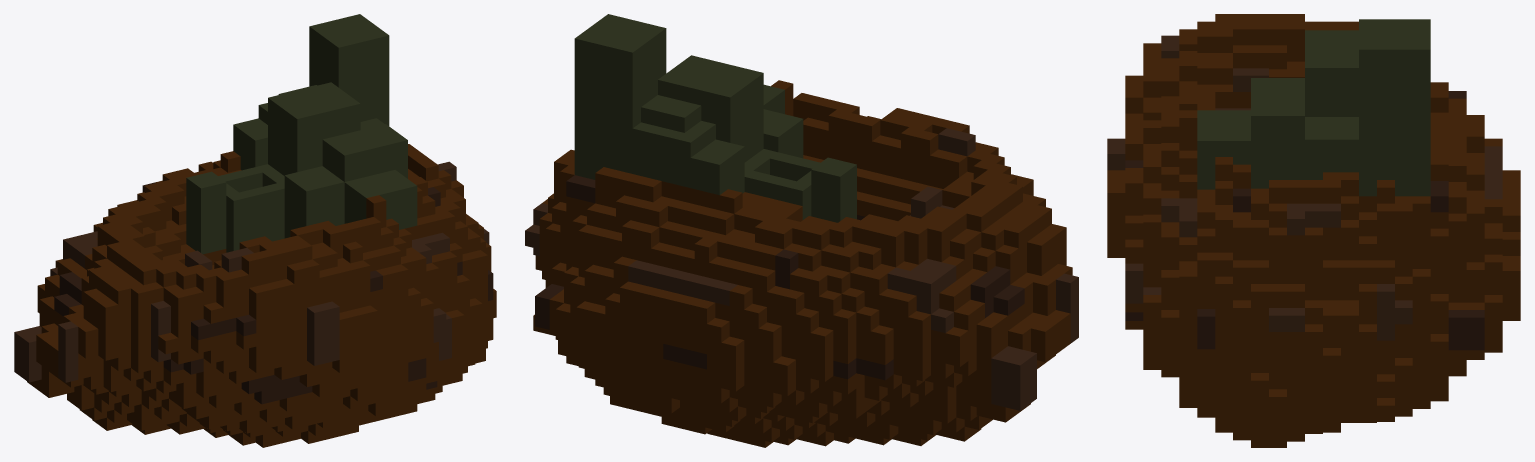
The model's file is asteroidMining.FBX.
The picture shows the model from 3 angles, left to right: view 1: azimuth 30°, elevation 25°; view 2: azimuth 150°, elevation 25°; view 3: azimuth 270°, elevation 25°; orthographic projection. The views are drawn at different scales.
Parts seen in each view (by area): view 1: default; view 2: default; view 3: default.
Part boxes in pixels (<box>): default: <box>14,14,496,447</box>; default: <box>525,14,1078,447</box>; default: <box>1107,14,1520,447</box>.
Bounding box in the file's own units: 35 × 23 × 25.
Materials: 1 (1 with a texture image).
